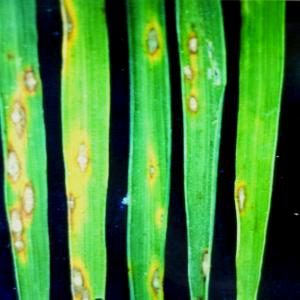1 RiceBlast: (68, 130, 110, 179), (131, 255, 176, 299), (2, 203, 32, 258), (3, 96, 40, 140), (135, 138, 163, 193), (194, 226, 216, 293), (60, 6, 98, 44), (1, 142, 29, 184), (136, 21, 165, 61), (231, 177, 257, 219), (181, 25, 210, 61), (16, 62, 47, 94), (66, 263, 92, 300), (13, 182, 43, 214), (147, 204, 170, 234), (178, 58, 203, 84), (182, 86, 203, 114), (63, 193, 88, 216)
